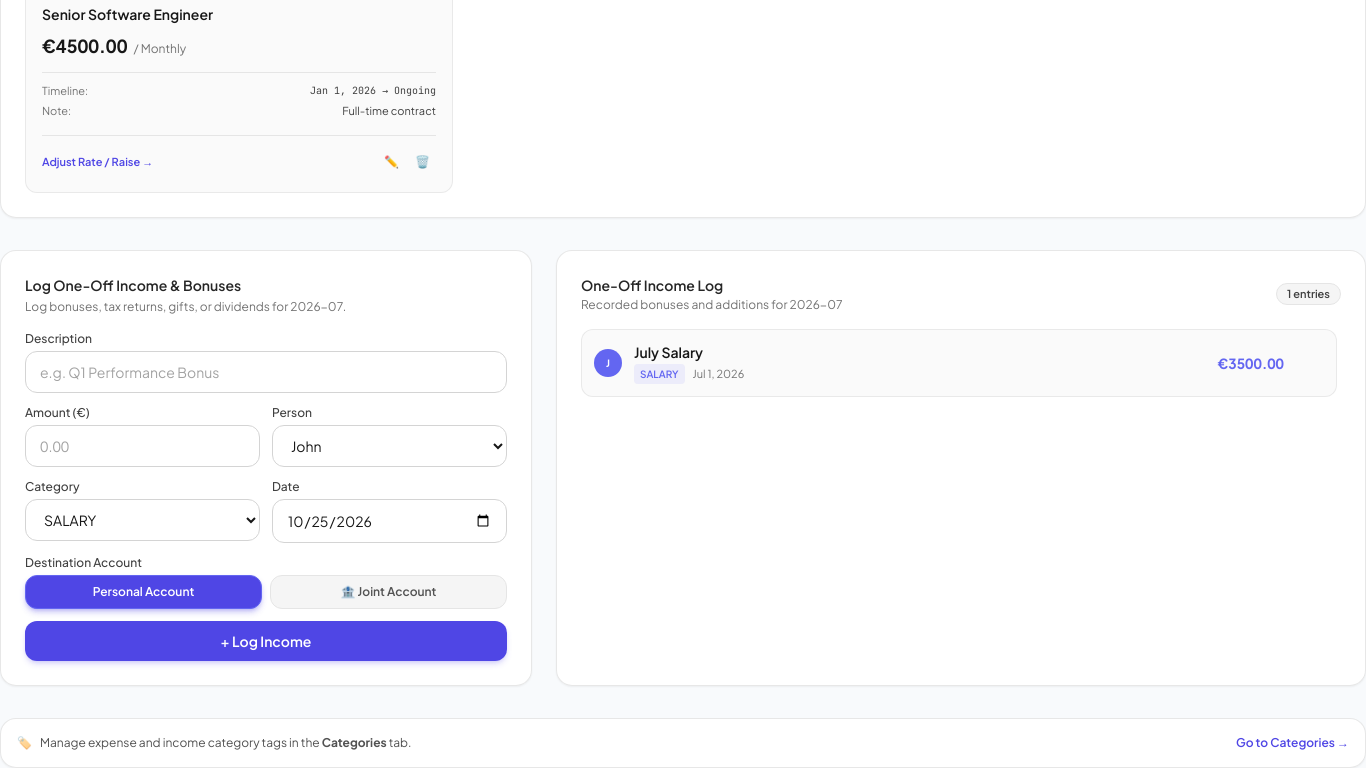
Scenario: IncomeTab.svelte — Income Ledger & Category Management › validates form input before logging income
The image size is (1366, 768).
(page scrolled)
Click the button with id "income-submit".
click(266, 641)  # box [25,621,507,661]
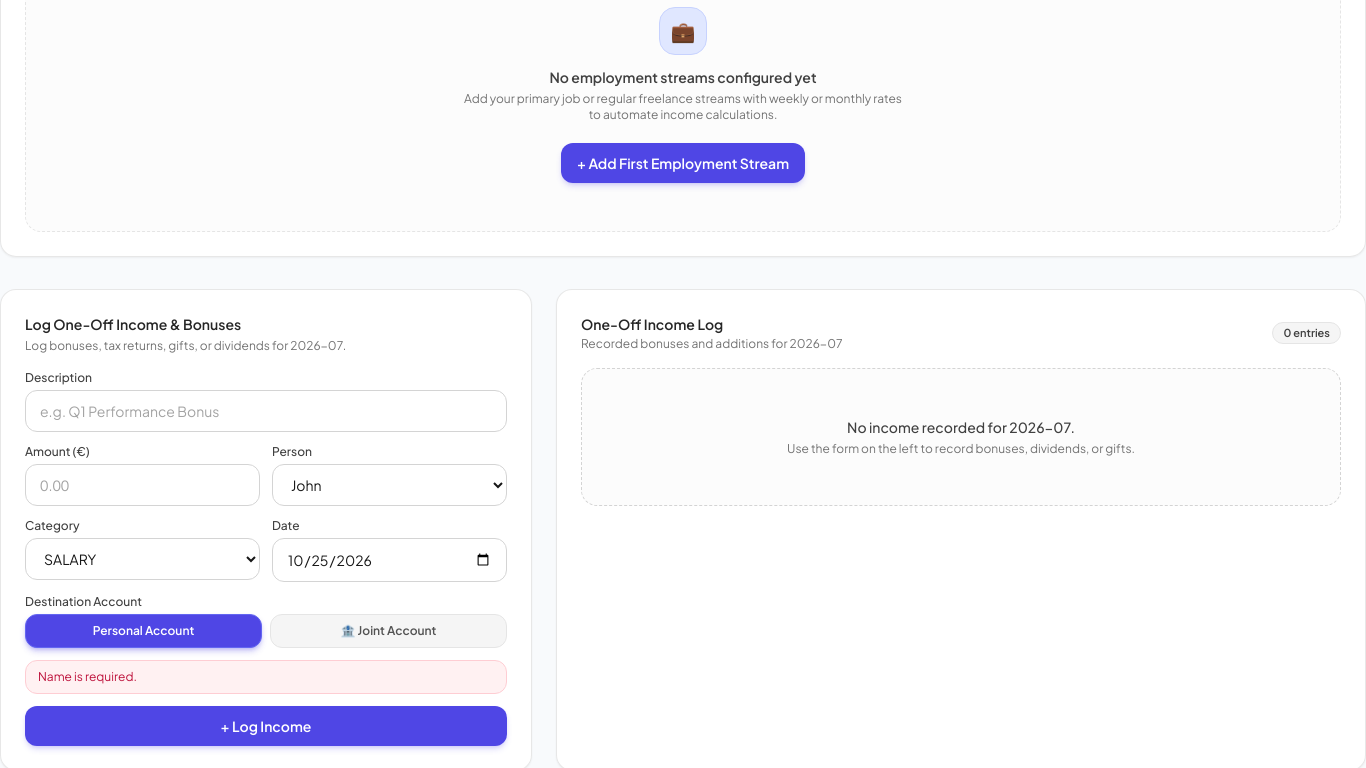
Now the text "Name is required." is shown, box [25,660,507,694]
